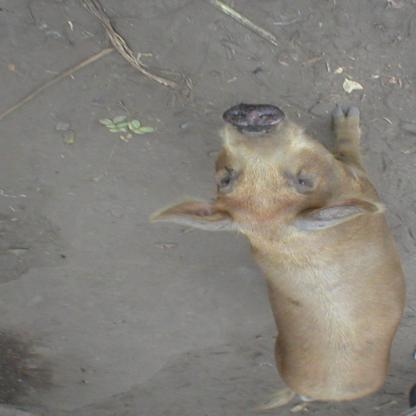boar: (143, 103, 406, 410)
